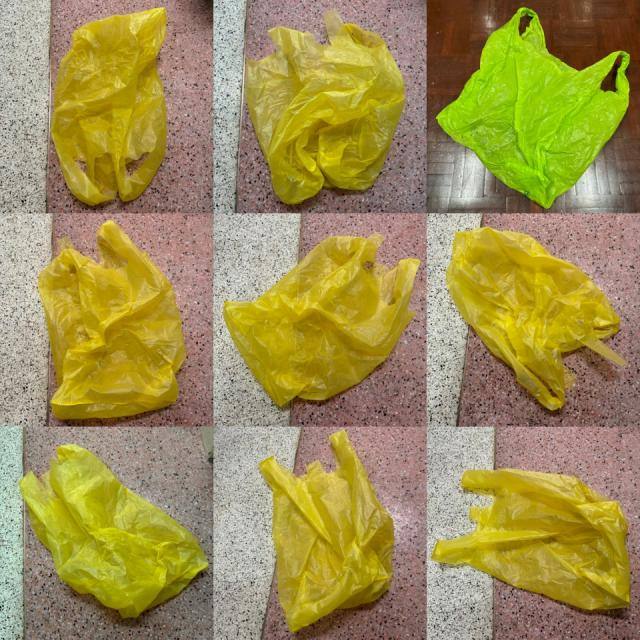Single-layer Plastic: (438, 8, 630, 209), (224, 232, 420, 406), (19, 444, 208, 618), (446, 228, 625, 409), (246, 9, 405, 203), (39, 221, 185, 419), (432, 469, 630, 609), (259, 431, 392, 632), (51, 8, 166, 205)
